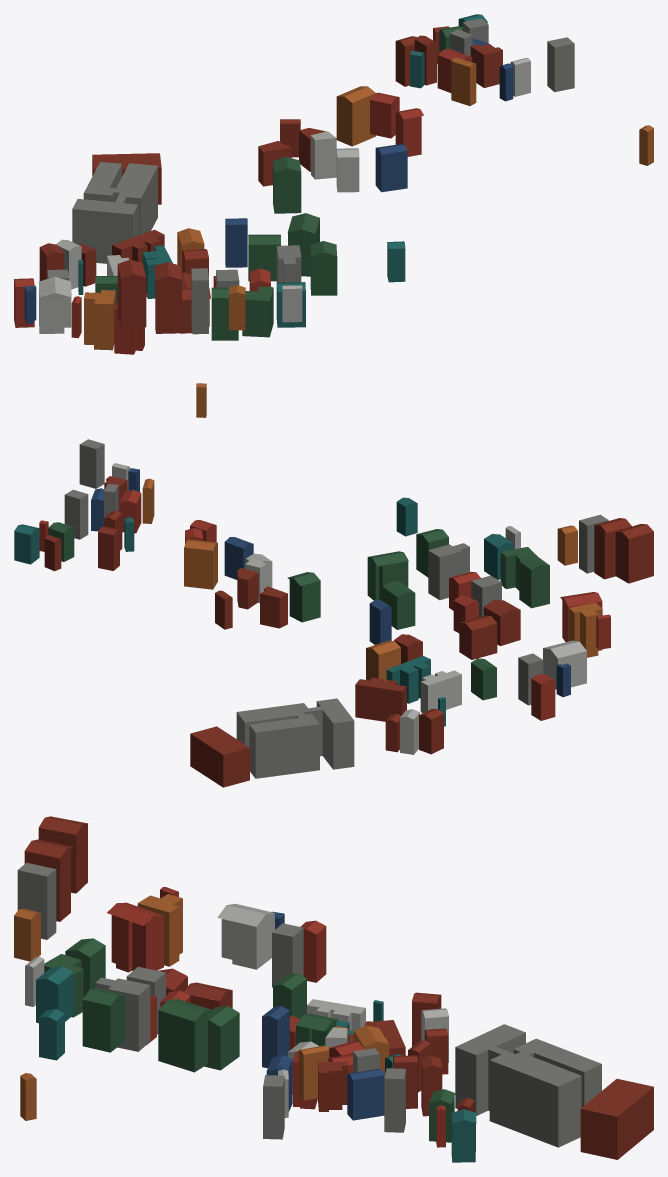
File: near-17-109446-59470.c458319d.glb
The picture shows the model from 3 angles, top to bottom: view 1: azimuth 30°, elevation 25°; view 2: azimuth 150°, elevation 25°; view 3: azimuth 270°, elevation 25°; orthographic projection. The views are drawn at different scales.
Bounding box in the file's own units: 290 × 98.36 × 249.
